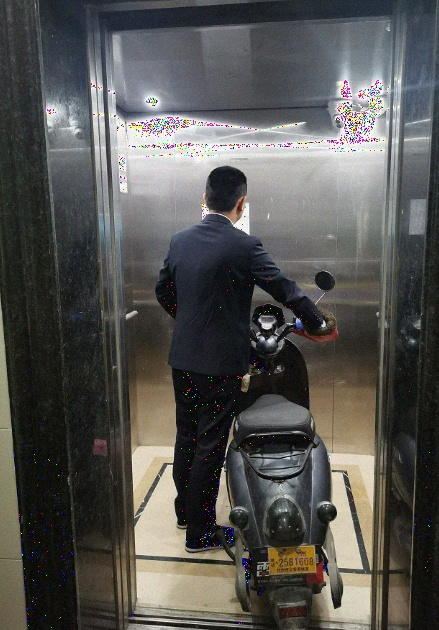ebike: (224, 268, 340, 627)
person: (157, 160, 330, 542)
